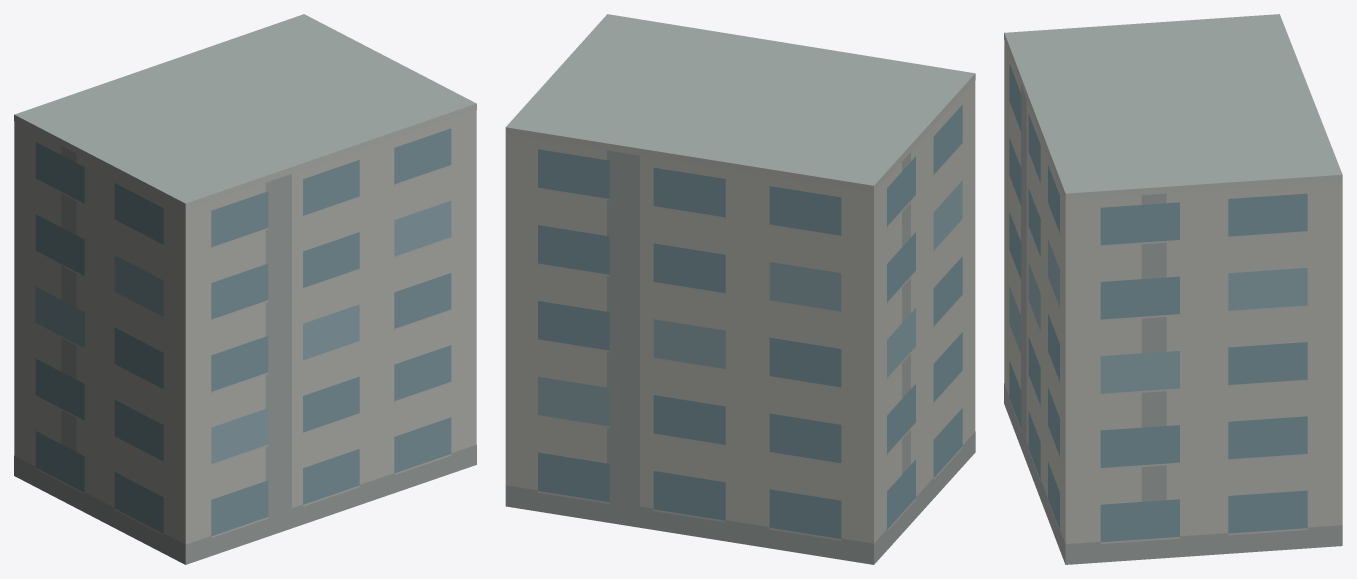
File: survey-upis-33040678.glb
The picture shows the model from 3 angles, left to right: view 1: azimuth 30°, elevation 25°; view 2: azimuth 150°, elevation 25°; view 3: azimuth 270°, elevation 25°; orthographic projection. The views are drawn at different scales.
Visible parts, largest first — view 1: survey-upis-33040678.tmp; view 2: survey-upis-33040678.tmp; view 3: survey-upis-33040678.tmp.
Part boxes in pixels (bbox=[...]): survey-upis-33040678.tmp: bbox=[14, 14, 476, 564]; survey-upis-33040678.tmp: bbox=[505, 14, 975, 564]; survey-upis-33040678.tmp: bbox=[1004, 14, 1342, 564].
Bounding box in the file's own units: 13.6 × 13.1 × 10.83.
